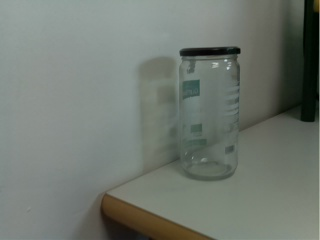pote cristal: (174, 44, 246, 182)
